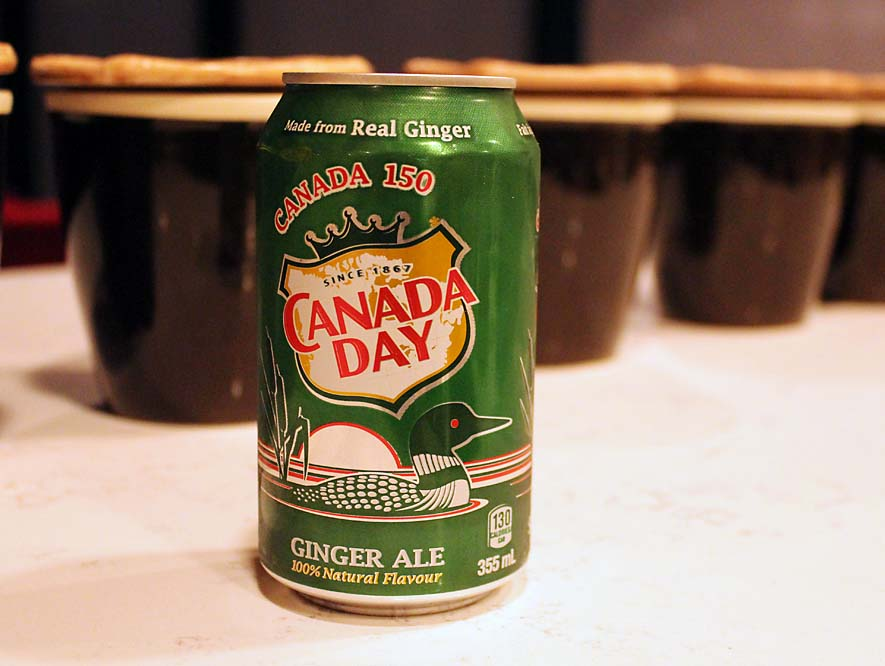Lata: (240, 55, 544, 631)
